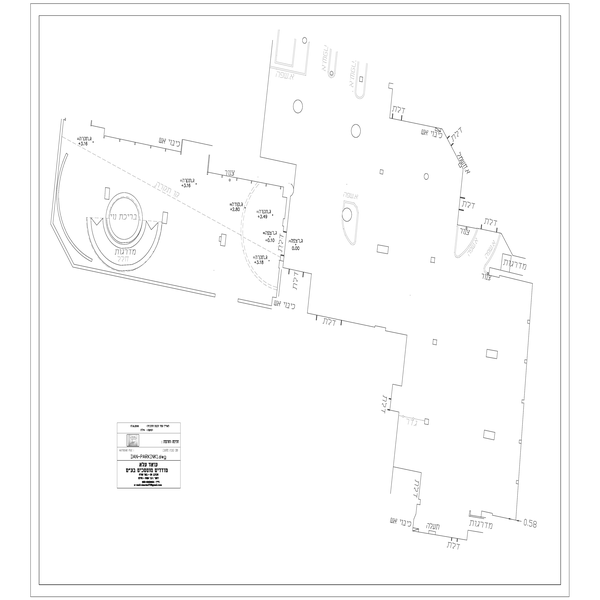room: (50, 119, 296, 313)
